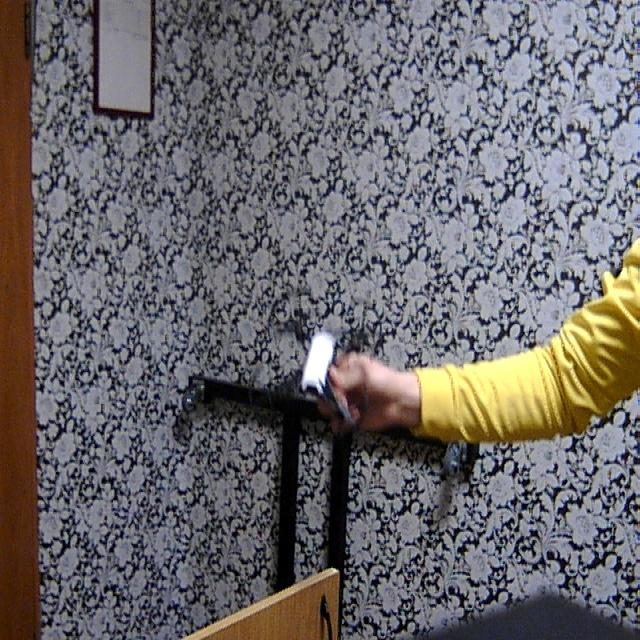drone: (254, 282, 380, 450)
